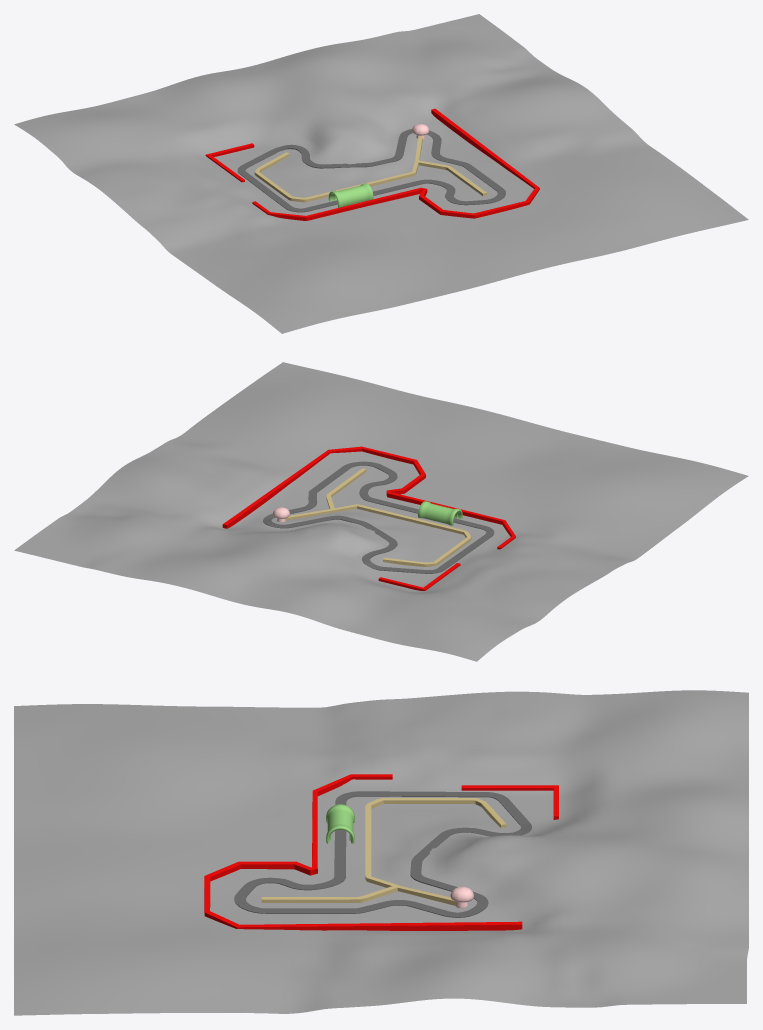
Rendered from voor_ban_ground.fbx.
The picture shows the model from 3 angles, top to bottom: view 1: azimuth 30°, elevation 25°; view 2: azimuth 150°, elevation 25°; view 3: azimuth 270°, elevation 25°; orthographic projection. The views are drawn at different scales.
Parts seen in each view (by area): view 1: ground, racebaan1; view 2: ground, racebaan1; view 3: ground, racebaan1.
Part boxes in pixels (<box>): ground: <box>14,14,748,333</box>; racebaan1: <box>205,108,539,220</box>; ground: <box>14,362,748,661</box>; racebaan1: <box>222,446,515,590</box>; ground: <box>14,690,748,1015</box>; racebaan1: <box>204,774,558,930</box>.
Bounding box in the file's own units: 2824 × 171 × 2831.
